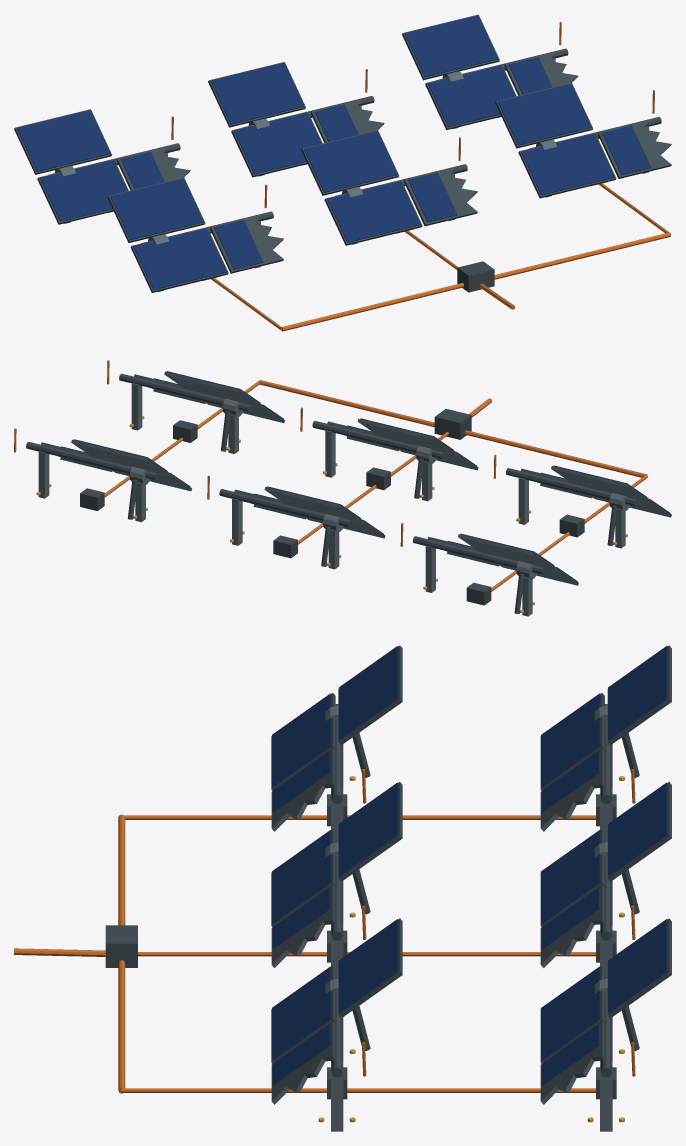
Rendered from solar_array_d2.glb.
The picture shows the model from 3 angles, top to bottom: view 1: azimuth 30°, elevation 25°; view 2: azimuth 150°, elevation 25°; view 3: azimuth 270°, elevation 25°; orthographic projection. The views are drawn at different scales.
Parts seen in each view (by area): view 1: SOLAR_GAME_MESH; view 2: SOLAR_GAME_MESH; view 3: SOLAR_GAME_MESH.
Part boxes in pixels (box(x1,y1,x2,y2)): SOLAR_GAME_MESH: box(14, 14, 671, 331); SOLAR_GAME_MESH: box(14, 360, 671, 616); SOLAR_GAME_MESH: box(14, 645, 671, 1131).
Size of the model in its own units: 16.53 by 2.52 by 12.22.
